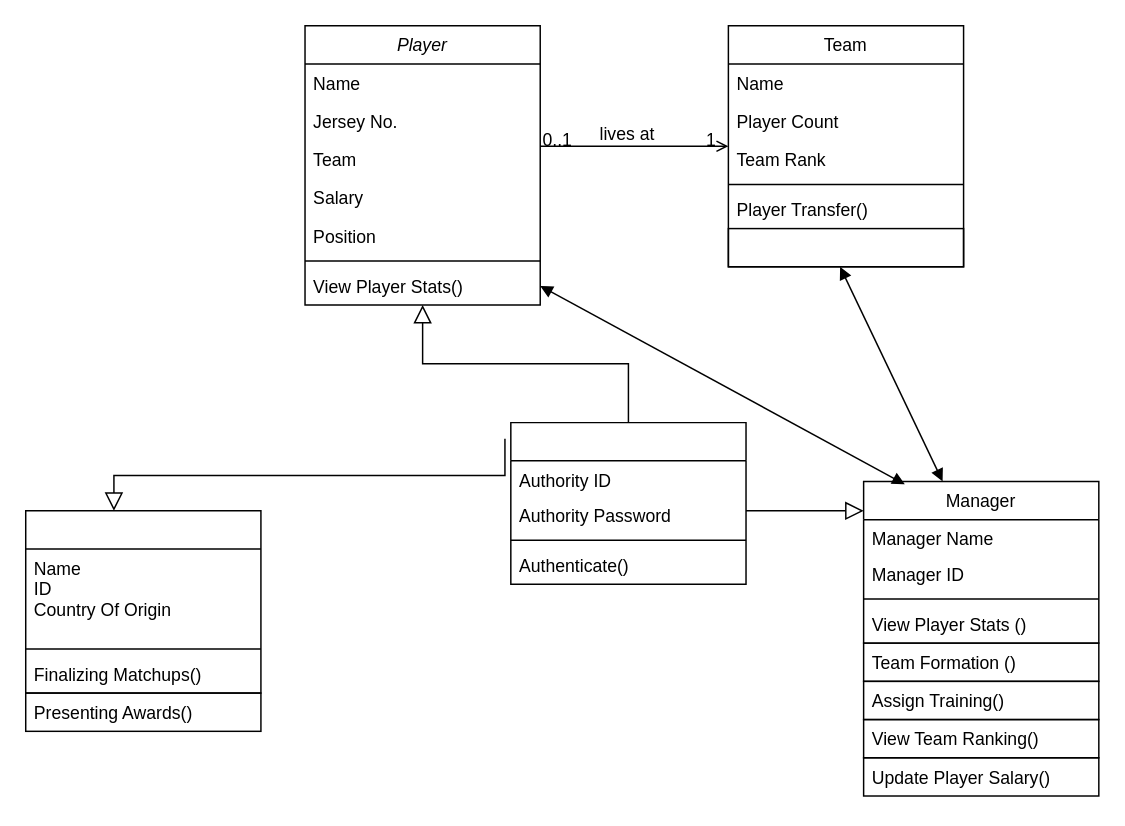
This 1125x826 diagram has some shape labels left out. The shapes that lost their labels are listed below. From the top down, each one's box as (x1, y1, x2, y2) in pixels, then its label:
(727, 227, 964, 267): View Player()
(509, 421, 746, 584): Admin
(24, 509, 261, 693): Board Member
